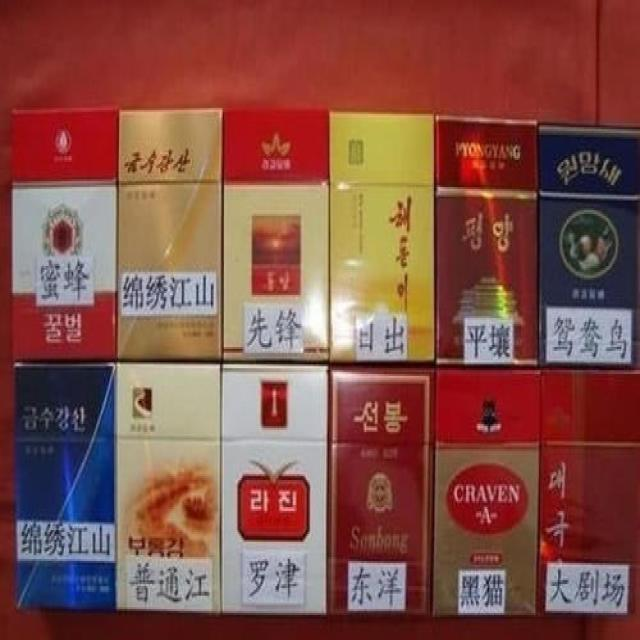box: (326, 364, 436, 617), (431, 366, 540, 617), (221, 364, 329, 615), (116, 108, 223, 360), (329, 110, 435, 364), (223, 108, 329, 362), (12, 108, 118, 360), (116, 362, 221, 613), (435, 116, 539, 368), (536, 368, 640, 617), (14, 362, 116, 609), (539, 123, 640, 368)
